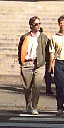person: (16, 14, 51, 111)
